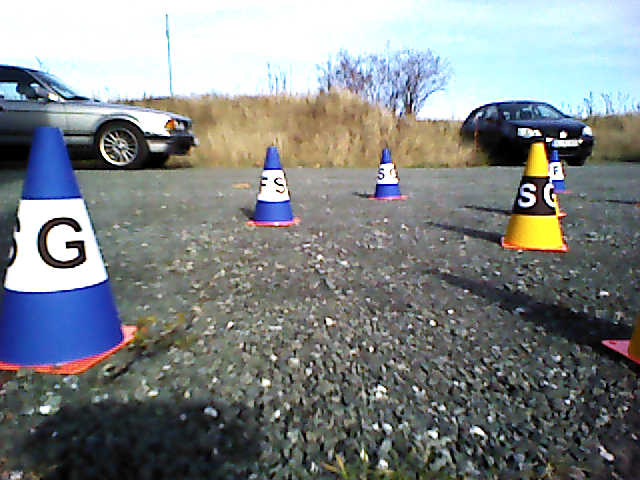bluecone: (1, 128, 117, 363), (255, 147, 288, 221), (377, 149, 400, 197), (551, 150, 566, 190)
yellowcone: (506, 143, 561, 245)
